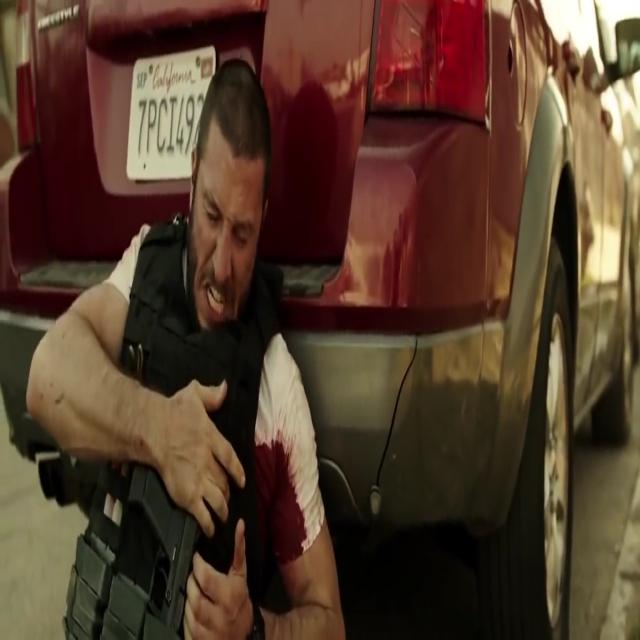Weapon: (131, 446, 212, 640)
